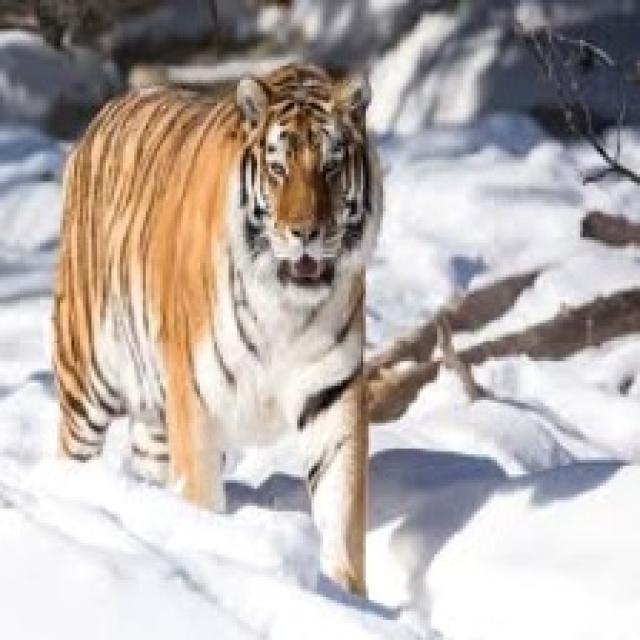bear: (38, 75, 449, 600)
